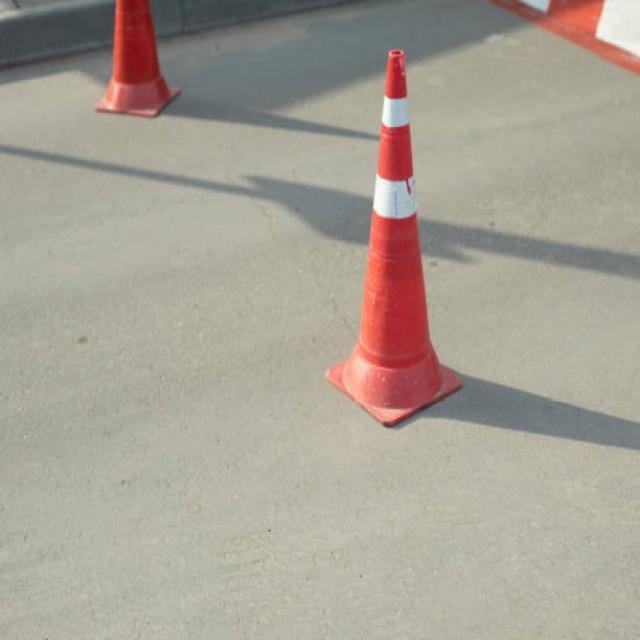Traffic Cone: (287, 17, 507, 448)
